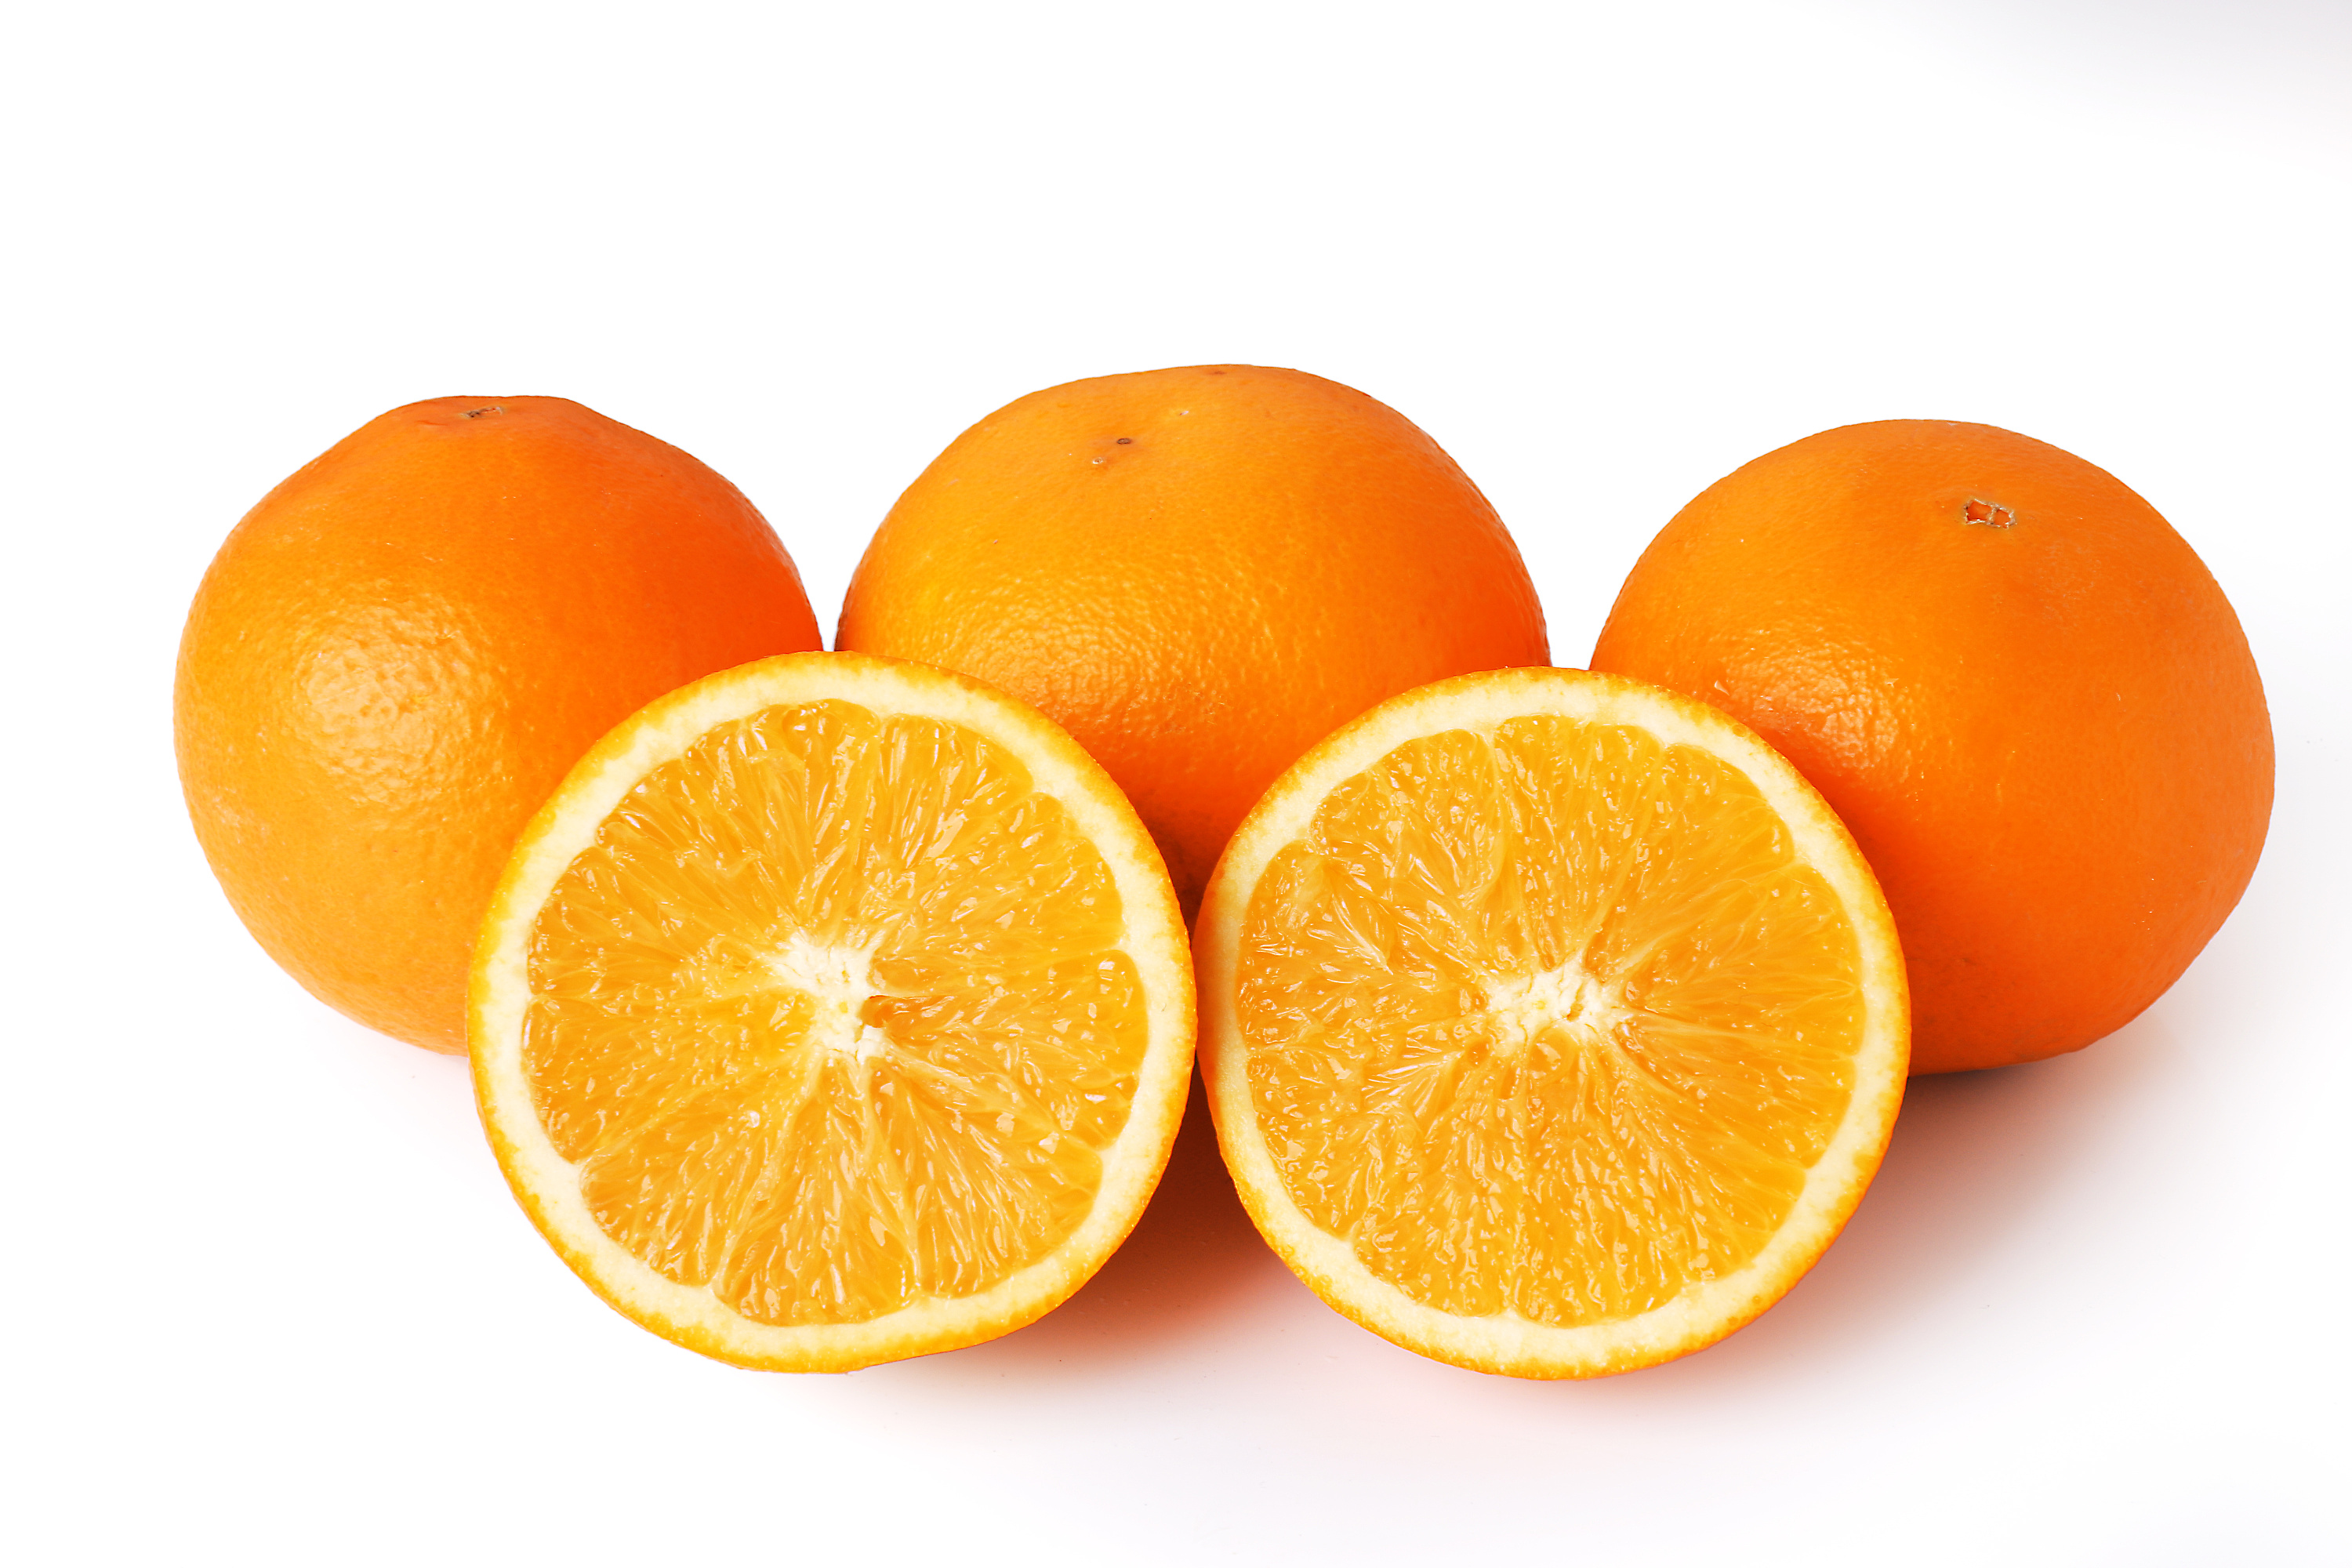orange: (485, 667, 1188, 1356), (1197, 679, 1895, 1367), (1608, 399, 2282, 900), (843, 361, 1591, 770), (184, 397, 835, 814)
